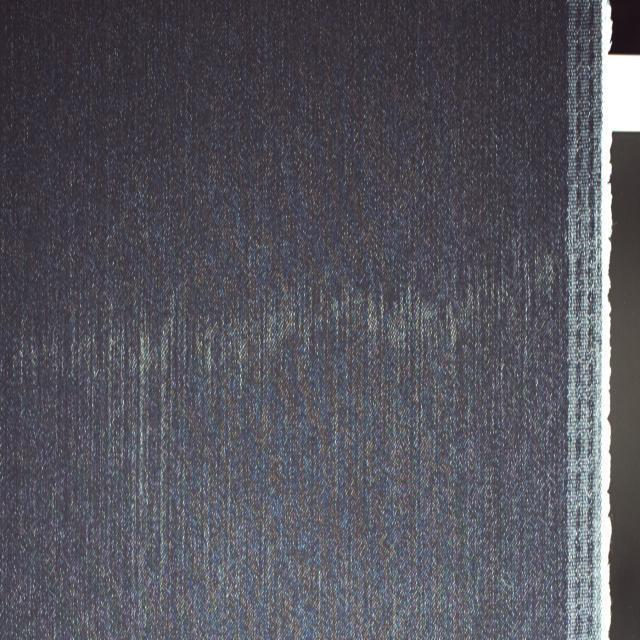defect: (20, 247, 588, 385)
